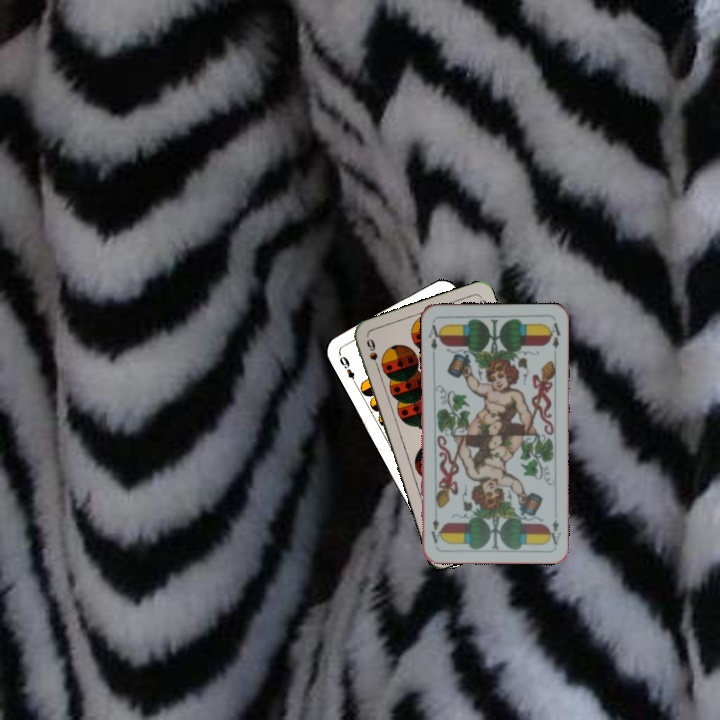E9: (335, 351, 360, 388)
EA: (424, 321, 444, 359), (544, 516, 563, 547)
S9: (362, 334, 383, 374)
